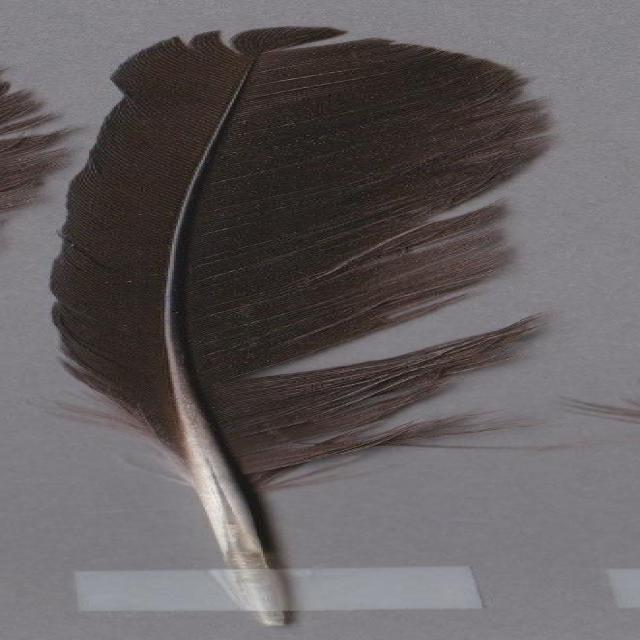feather: (45, 27, 593, 627)
